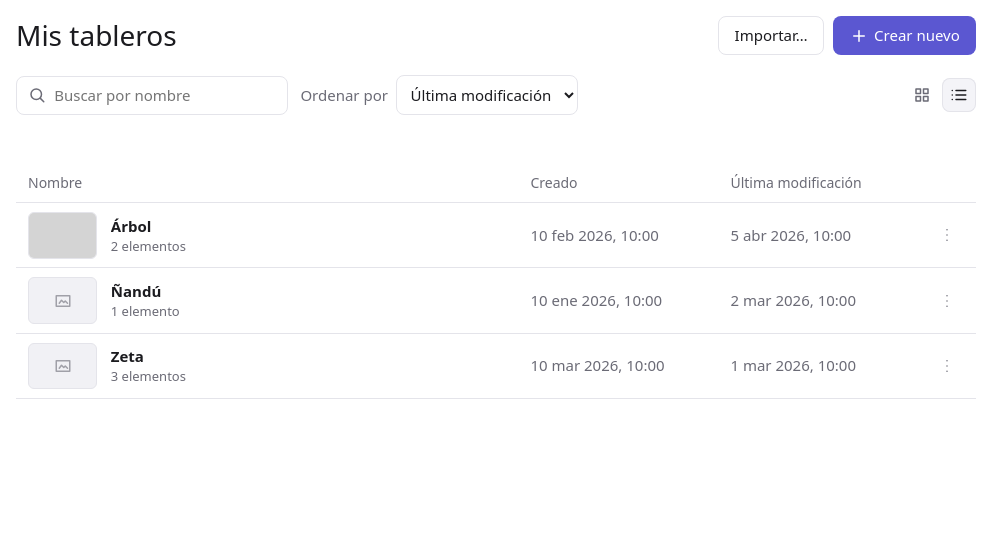
Test: duplicate › duplicates from the menu, refreshes and says what was created
Expected: the heading "Mis tableros" is shown, left=16, top=16, right=177, bottom=55
Expected: the link "Ñandú" is shown, left=111, top=281, right=161, bottom=301
Step 1. Click the button named "Opciones de «Zeta»" → (947, 366), box left=930, top=349, right=964, bottom=383
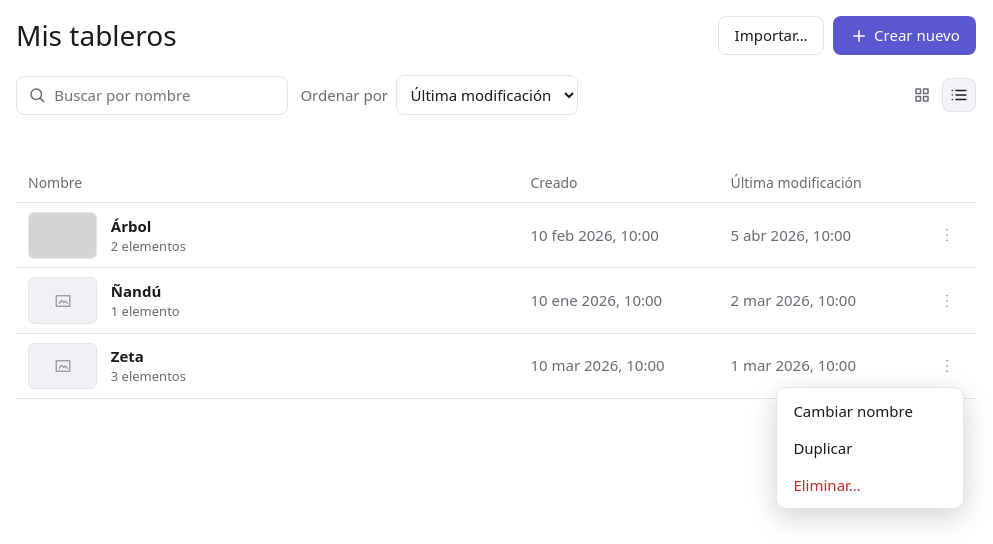
Step 2. Click the menu item "Duplicar" → (870, 448), box left=782, top=430, right=958, bottom=466
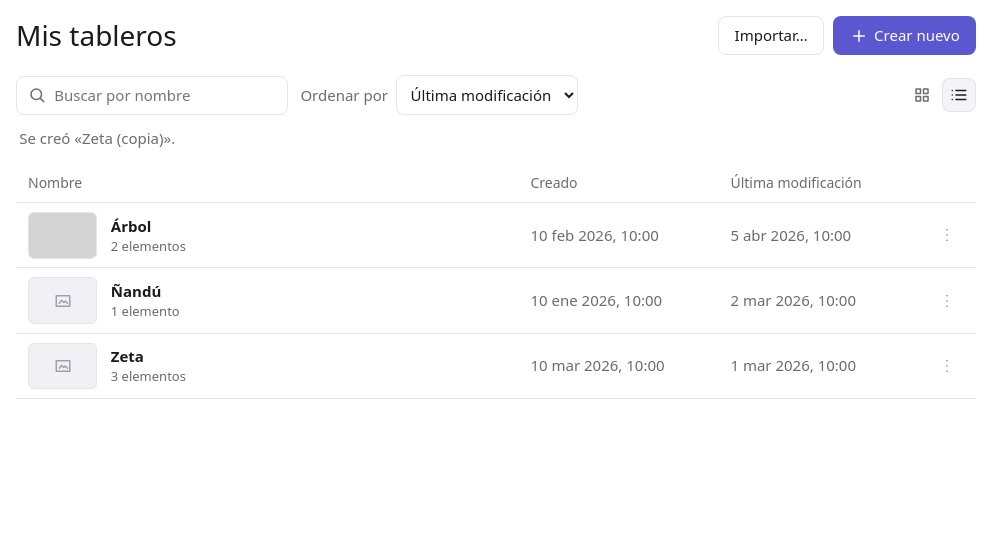
Now the text "Se creó «Zeta (copia)»." is shown, box left=19, top=128, right=175, bottom=148
